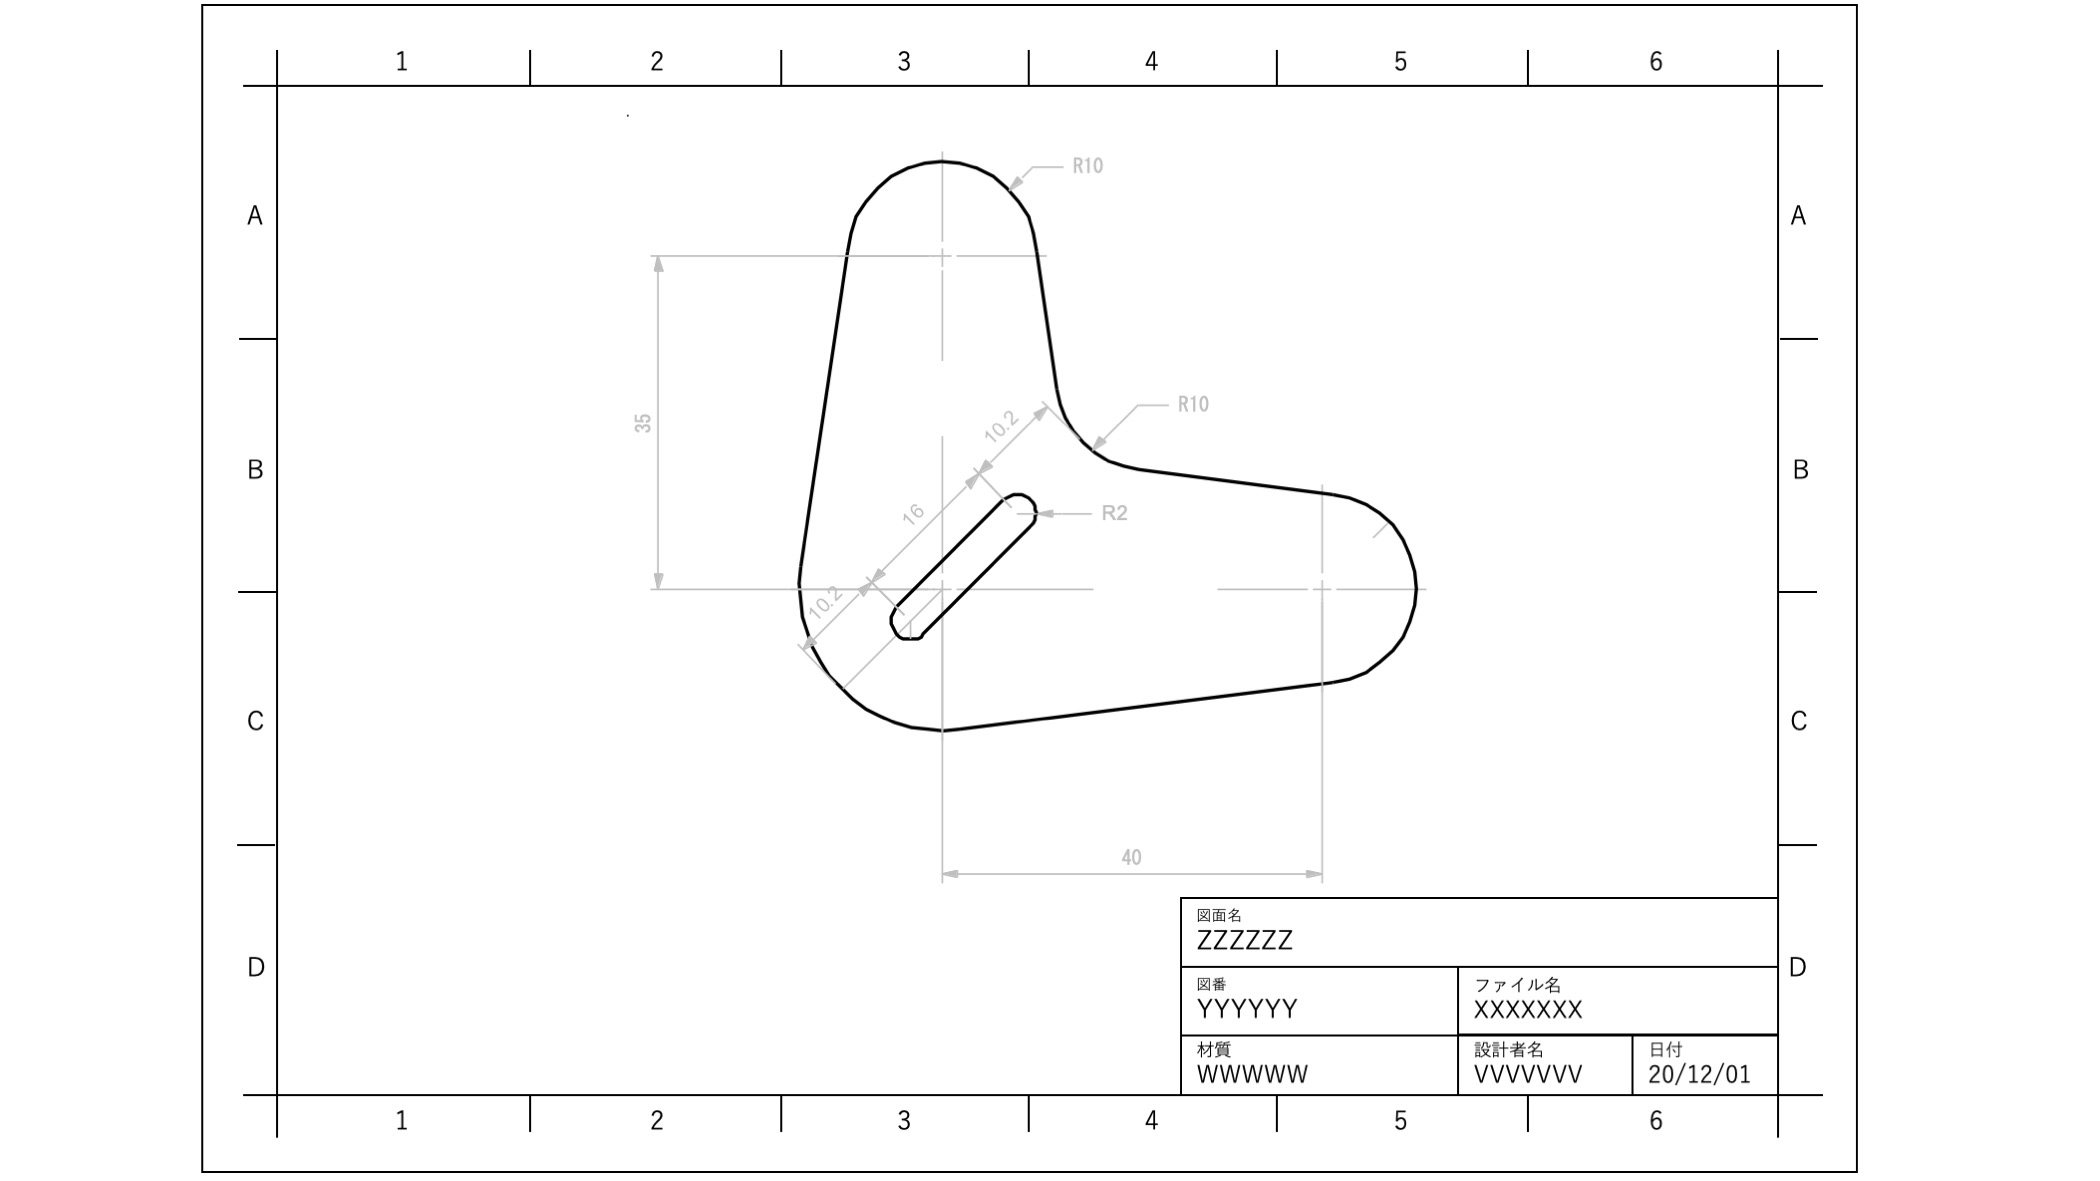round_rectangle: (886, 467, 1044, 653)
